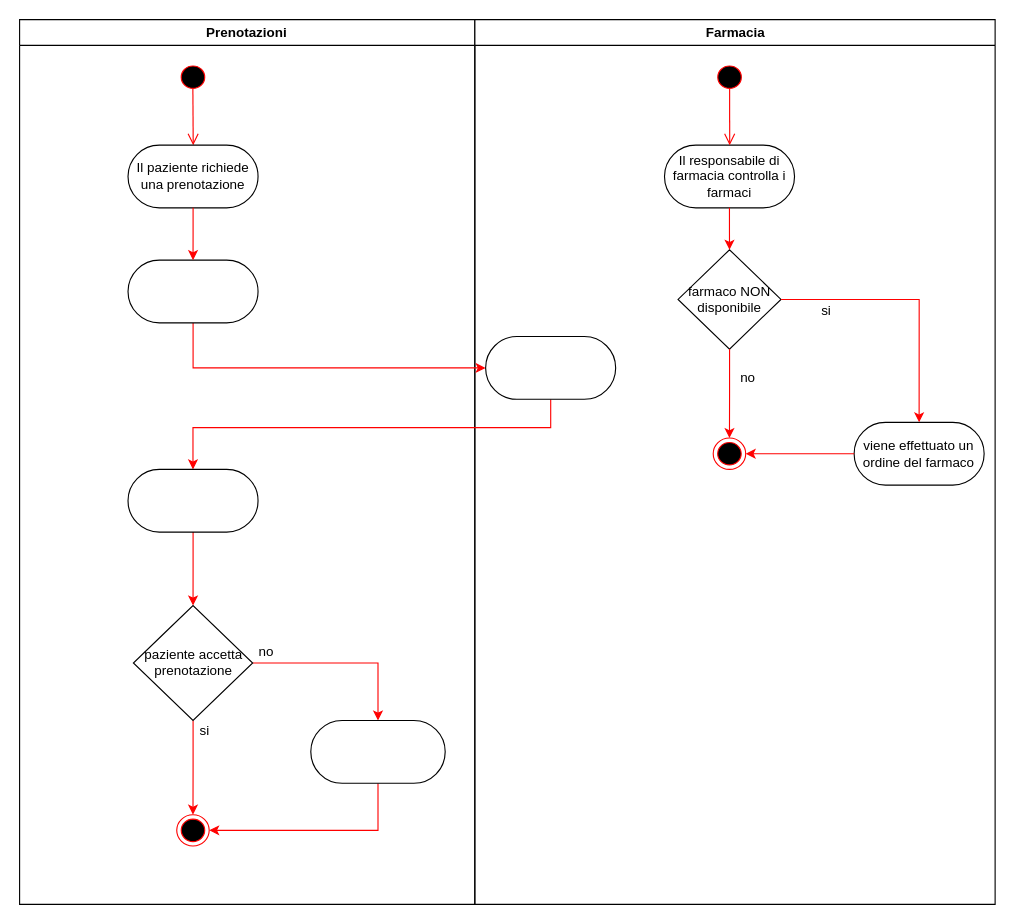
Some shapes in this 1015 by 924 pixel diagram are drawn without their labels. The centre of each missing label's shape, as x and y in pixels:
"Conferma la prenotazione" goes at (x=192, y=500).
"Il dottore effettua una nuova prenotazione" goes at (x=192, y=291).
"Modifica prenotazione" goes at (x=377, y=751).
"Richiede i farmaci da utilizzare" goes at (x=550, y=367).
